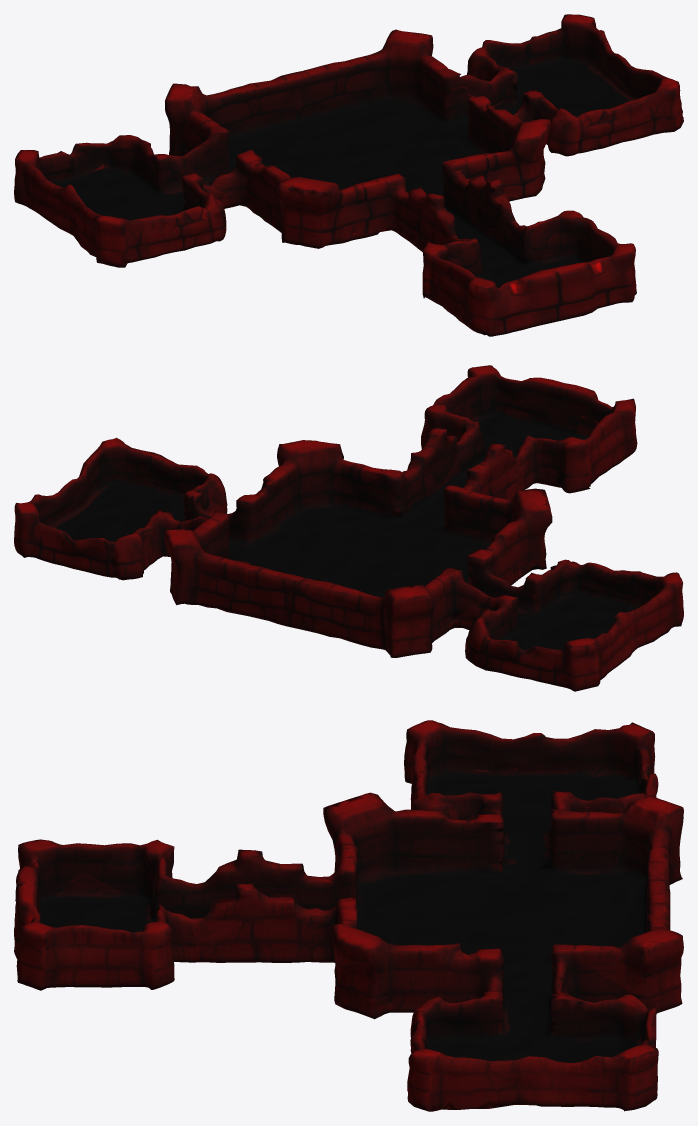
The model's file is hub.glb.
3 renders of one model, top to bottom at view 1: azimuth 30°, elevation 25°; view 2: azimuth 150°, elevation 25°; view 3: azimuth 270°, elevation 25°, orthographic. The views are drawn at different scales.
Parts seen in each view (by area): view 1: Mesh_0; view 2: Mesh_0; view 3: Mesh_0.
Part boxes in pixels (x1,y1,x2,y2): Mesh_0: (14,14,683,336); Mesh_0: (14,365,683,691); Mesh_0: (14,720,683,1111).
Size of the model in its own units: 1.91 by 0.1905 by 1.59.
Materials: 1 (1 with a texture image).
